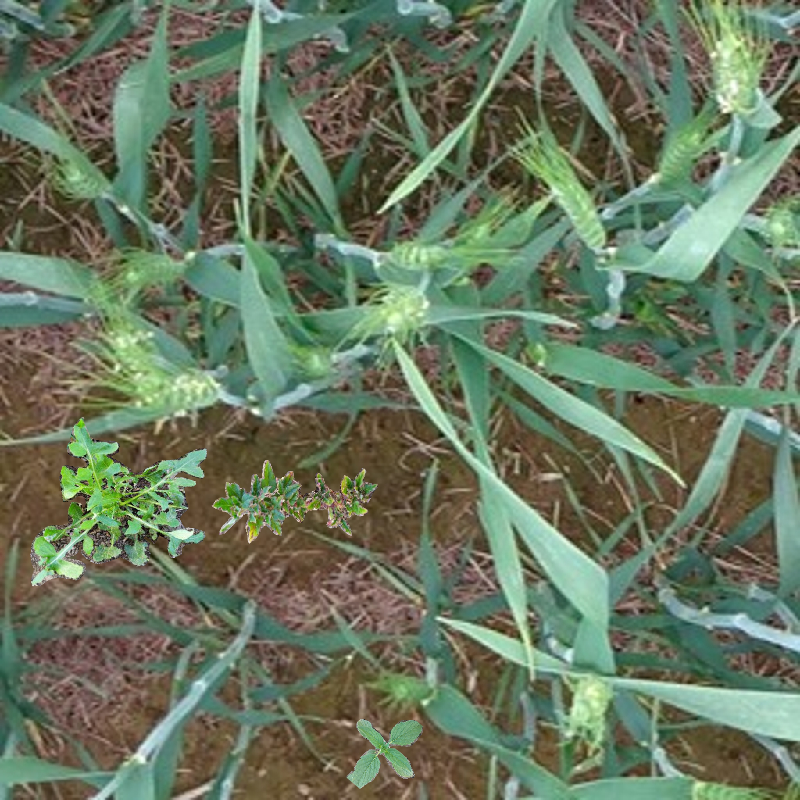spikelet: (544, 160, 607, 255), (107, 313, 166, 414), (707, 29, 757, 113), (101, 251, 190, 296), (352, 717, 415, 780), (157, 366, 225, 412), (374, 283, 432, 335), (655, 126, 705, 179), (573, 671, 612, 738), (56, 155, 113, 200), (759, 192, 800, 248), (384, 237, 452, 270)
weed: (24, 412, 203, 570), (211, 460, 378, 544), (325, 692, 443, 800)
